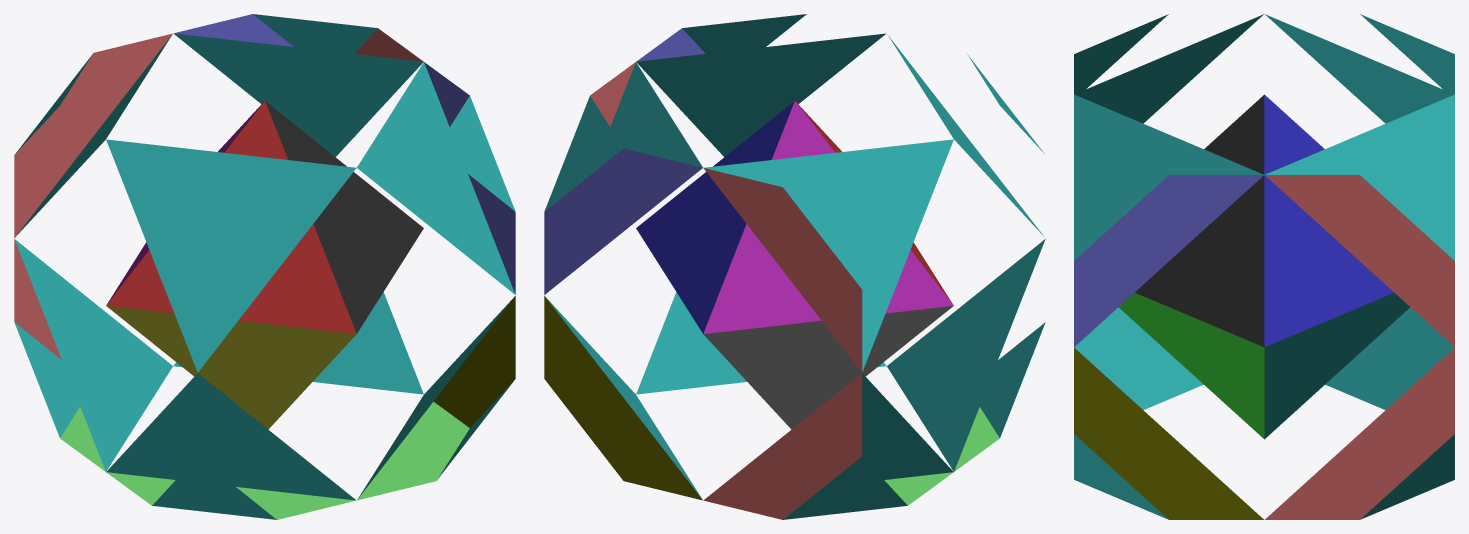
File: zeometry-sculptural-triangle-cage_v1.glb
The picture shows the model from 3 angles, left to right: view 1: azimuth 30°, elevation 25°; view 2: azimuth 150°, elevation 25°; view 3: azimuth 270°, elevation 25°; orthographic projection. The views are drawn at different scales.
Parts seen in each view (by area): view 1: Triangle Cage; view 2: Triangle Cage; view 3: Triangle Cage.
Part boxes in pixels (x1,y1,x2,y2): Triangle Cage: [14, 14, 515, 519]; Triangle Cage: [544, 14, 1045, 519]; Triangle Cage: [1074, 14, 1454, 519].
Bounding box in the file's own units: 0.5 × 0.5 × 0.5.
